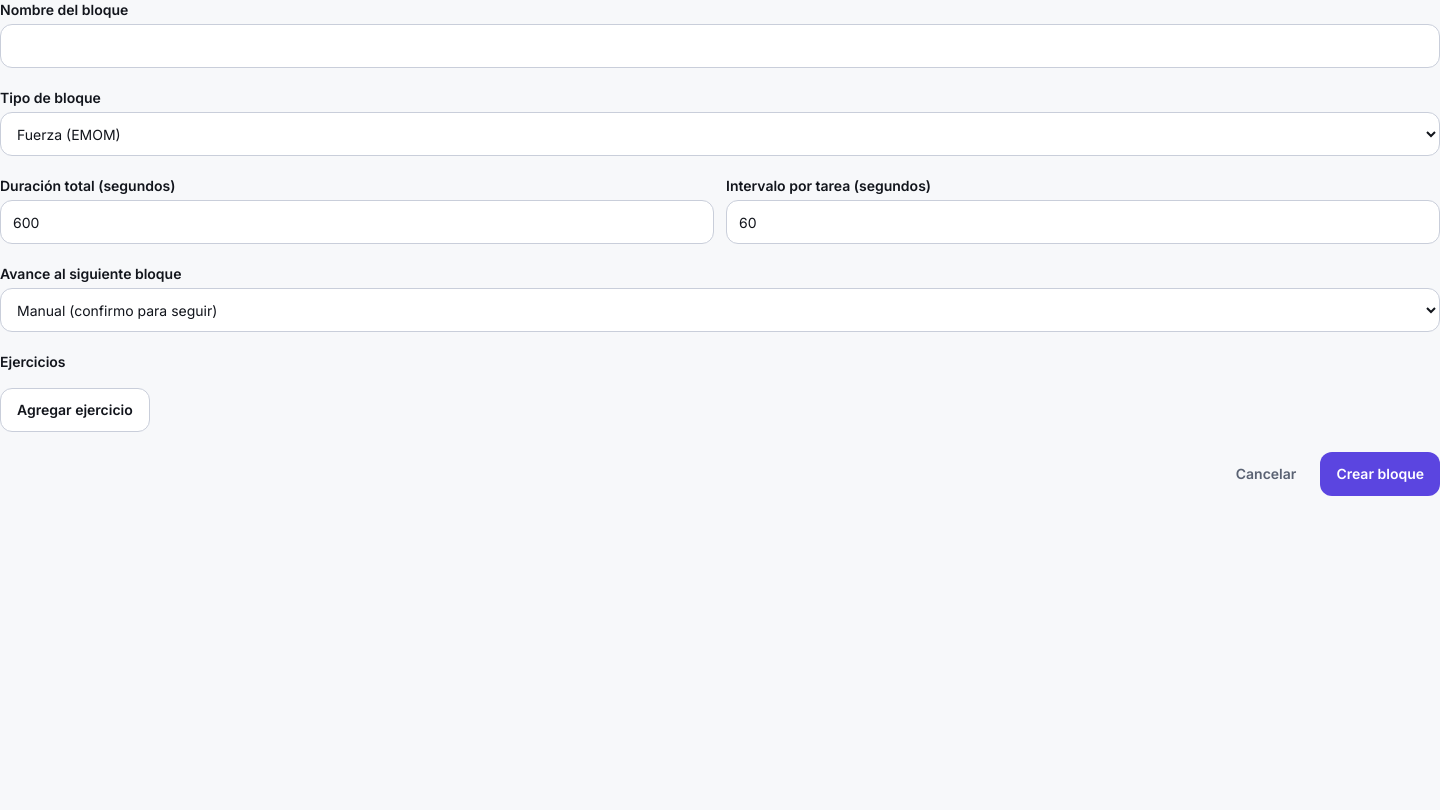
Scenario: BlockForm › quitar un ejercicio lo saca de la lista
Click the button "Agregar ejercicio" at (75, 410), box [0,388,150,432]
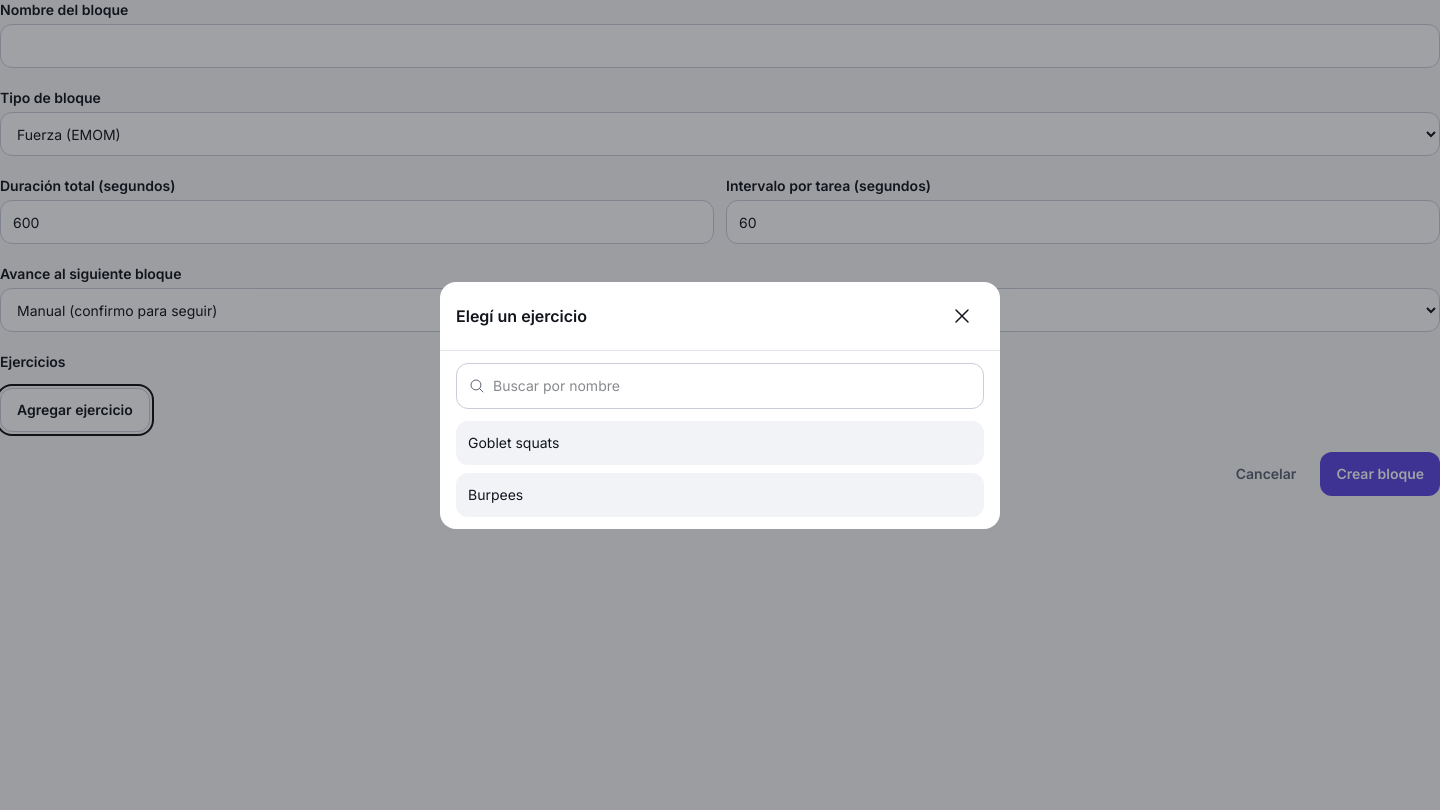
Click the button "Goblet squats" at (514, 442), box [456,420,984,464]
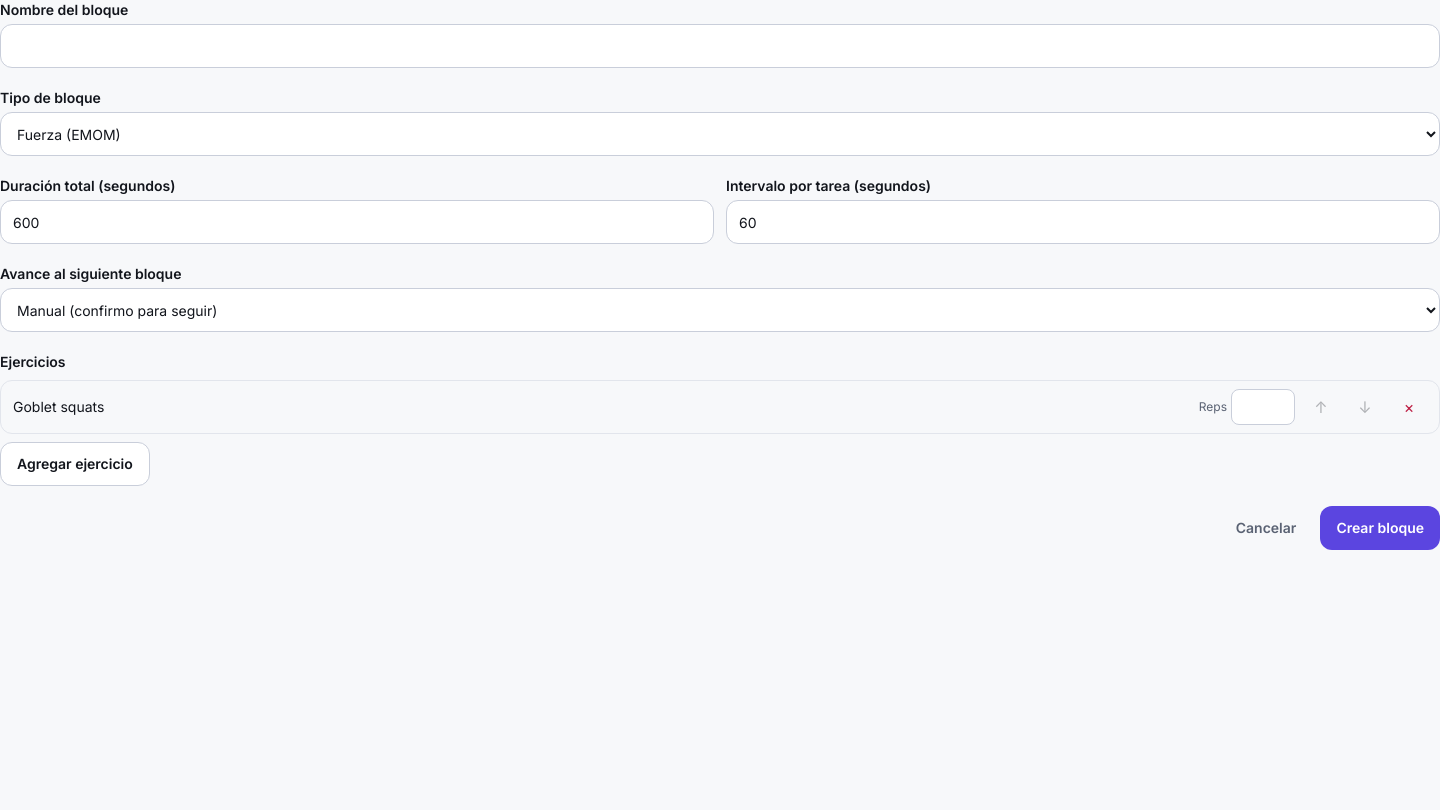
Now the text "Goblet squats" is shown, box [13,398,104,415]
Click the button named "quitar goblet squats" at (1409, 407), box [1391,389,1427,425]
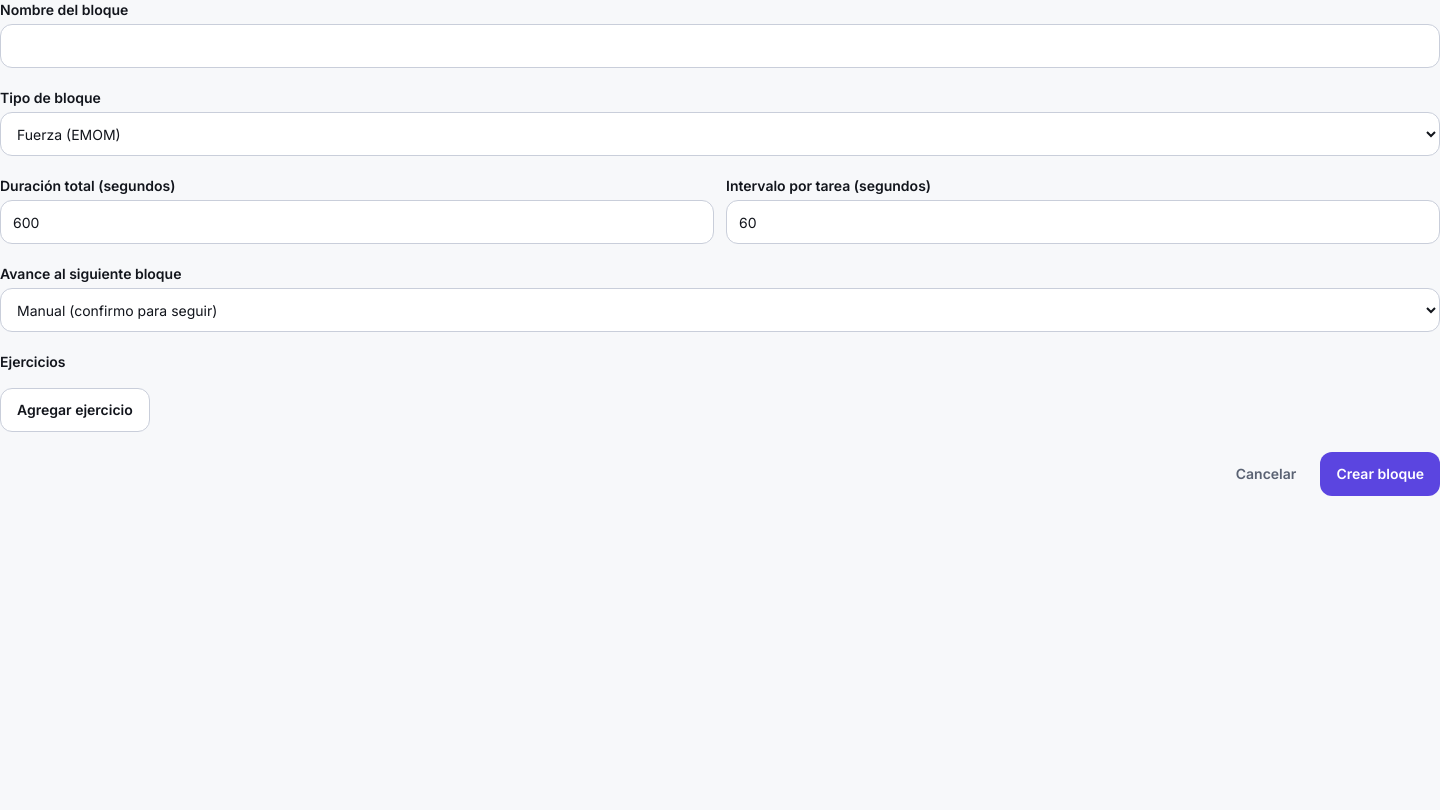
Now the text "Goblet squats" is gone
